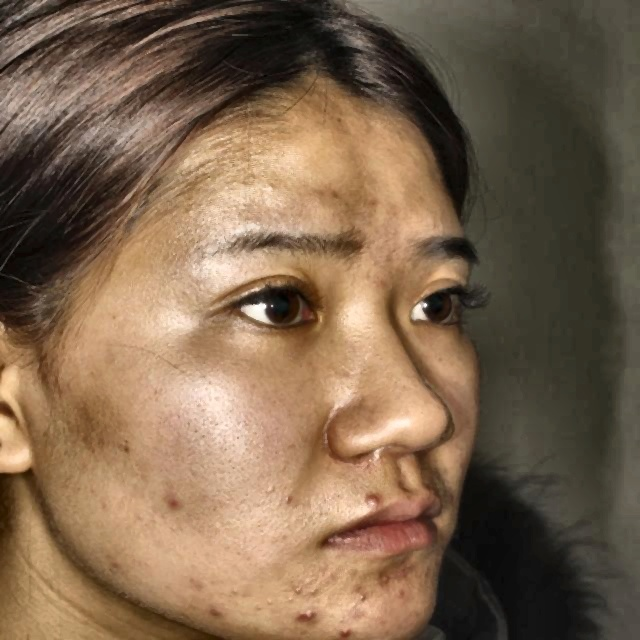pustule: (164, 480, 188, 512), (354, 485, 384, 510), (352, 580, 377, 606), (202, 600, 232, 620), (284, 610, 327, 622), (372, 567, 394, 589), (392, 557, 408, 587), (333, 620, 347, 638)
